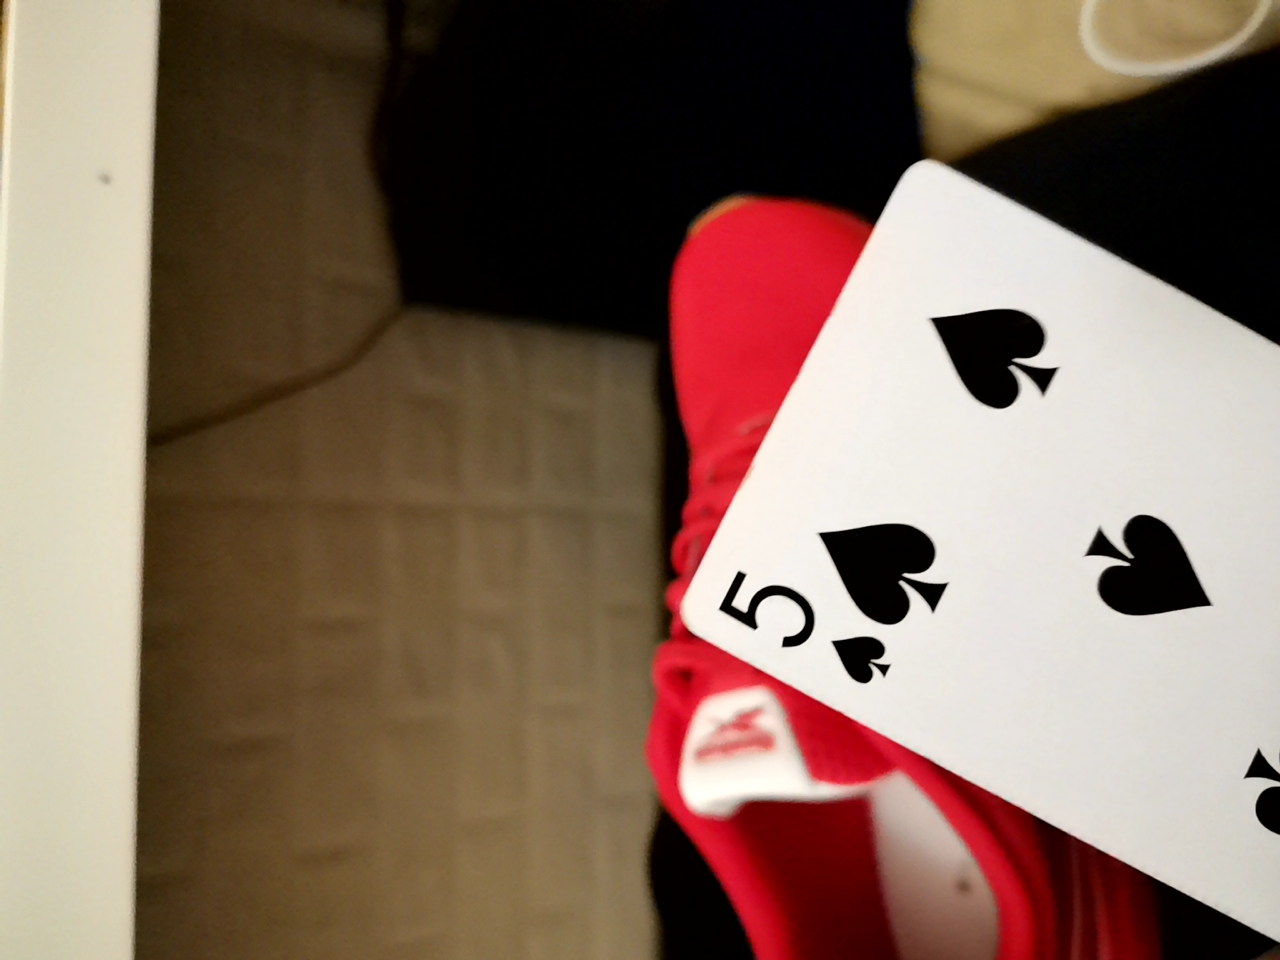ht 5: (647, 151, 1276, 957)
